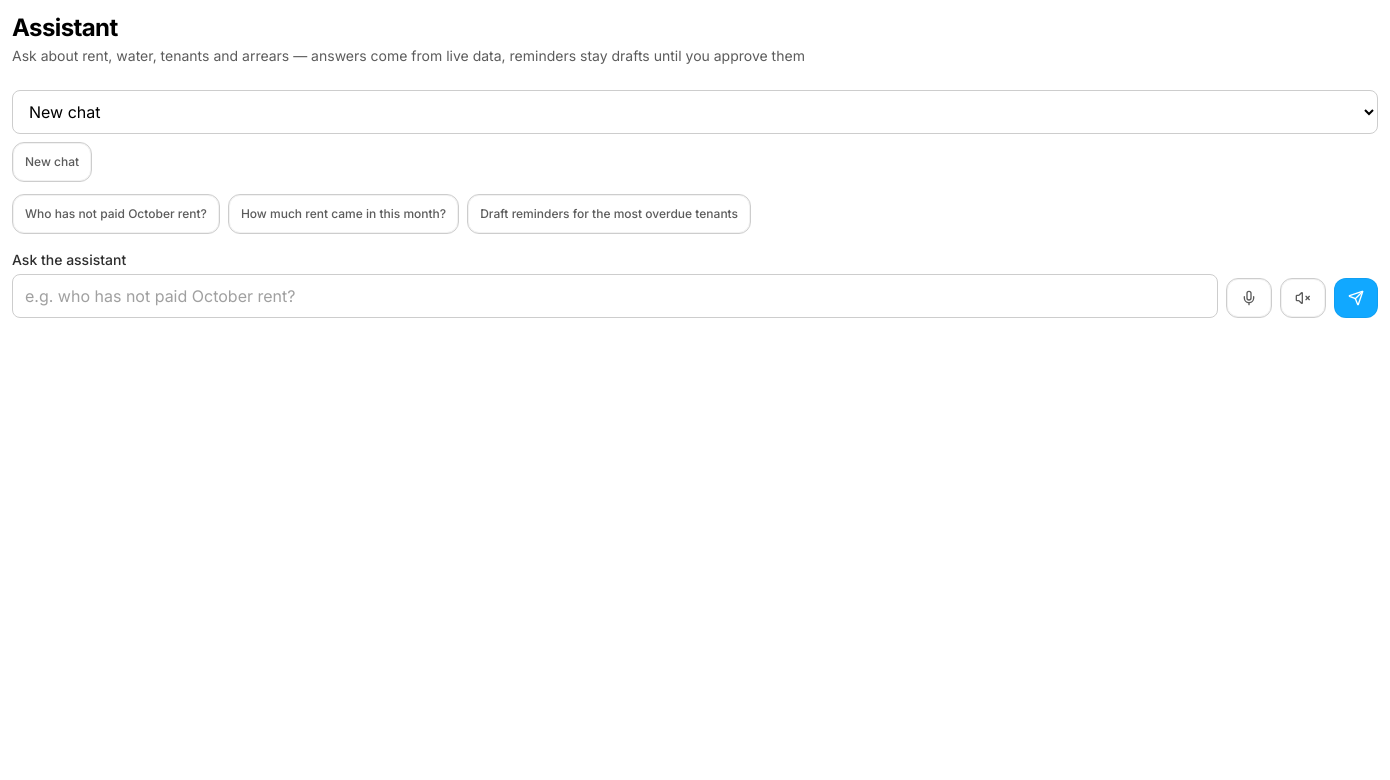
Test: Assistant mic (record and transcribe) › explains a blocked microphone instead of silently dying
Expected: the text "Ask about rent, water, tenants" is shown, x1=12 y1=47 x2=805 y2=64
Click the button named "Dictate question" at (1249, 298), box x1=1226 y1=278 x2=1272 y2=318
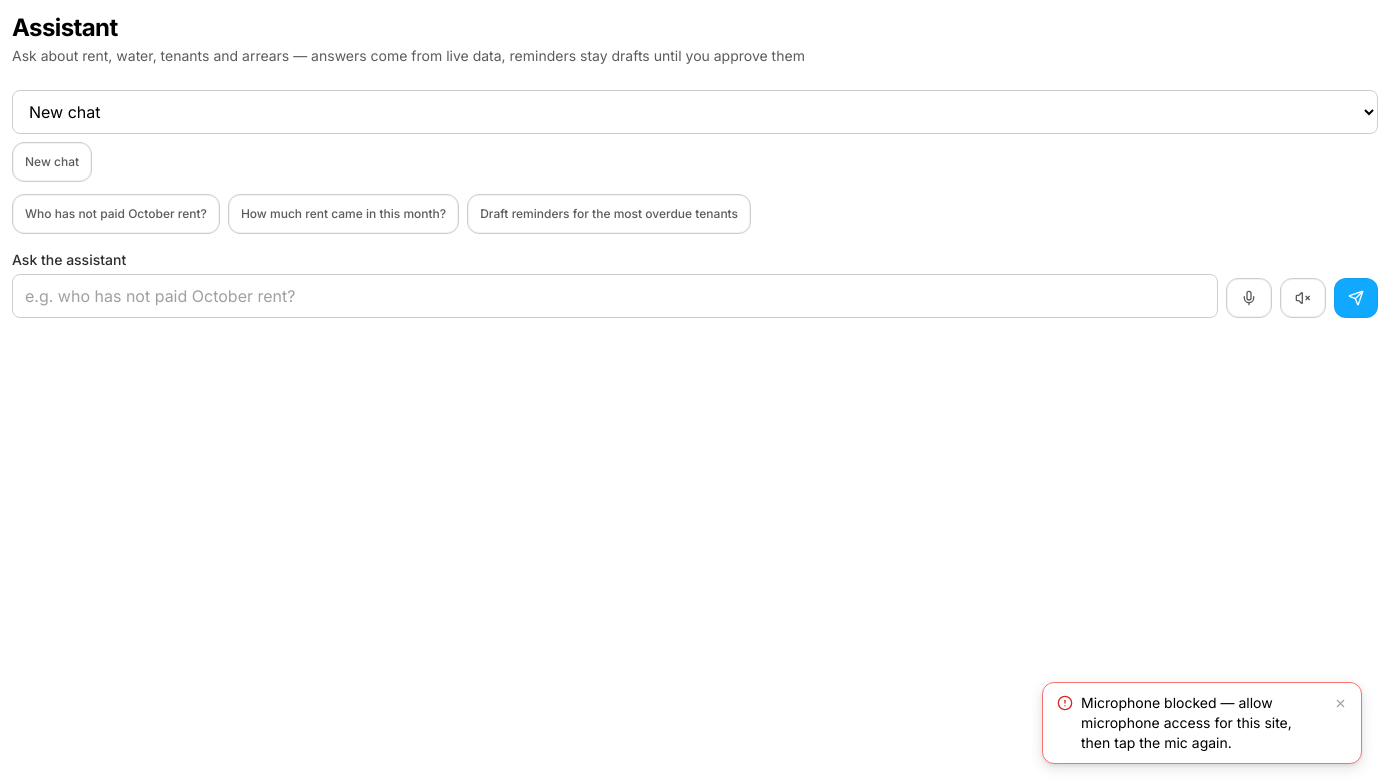
Result: the text "Microphone blocked" is shown at x1=1081 y1=694 x2=1292 y2=751
